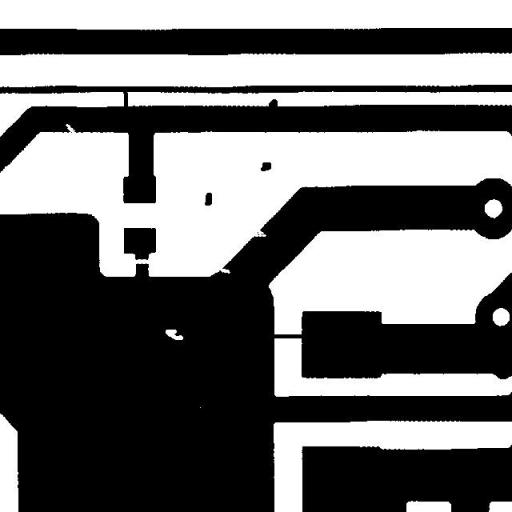copper: (197, 185, 219, 213), (253, 154, 278, 178)
mousebite: (58, 116, 84, 143), (244, 222, 274, 245), (208, 260, 238, 281)
open: (126, 251, 160, 271)
pin-hole: (158, 322, 190, 347)
short: (265, 326, 312, 346), (115, 82, 135, 116)
spur: (261, 91, 285, 116)
